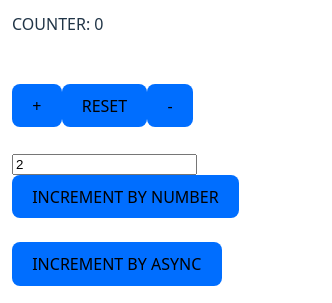
Test: Counter Component › increments the counter on + button click
Click the button "+" at (37, 106), box [12,84,62,127]
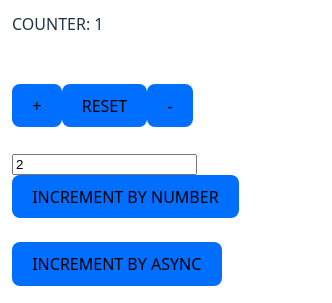
Check: the text "COUNTER: 1" is shown, box [12,13,104,35]
